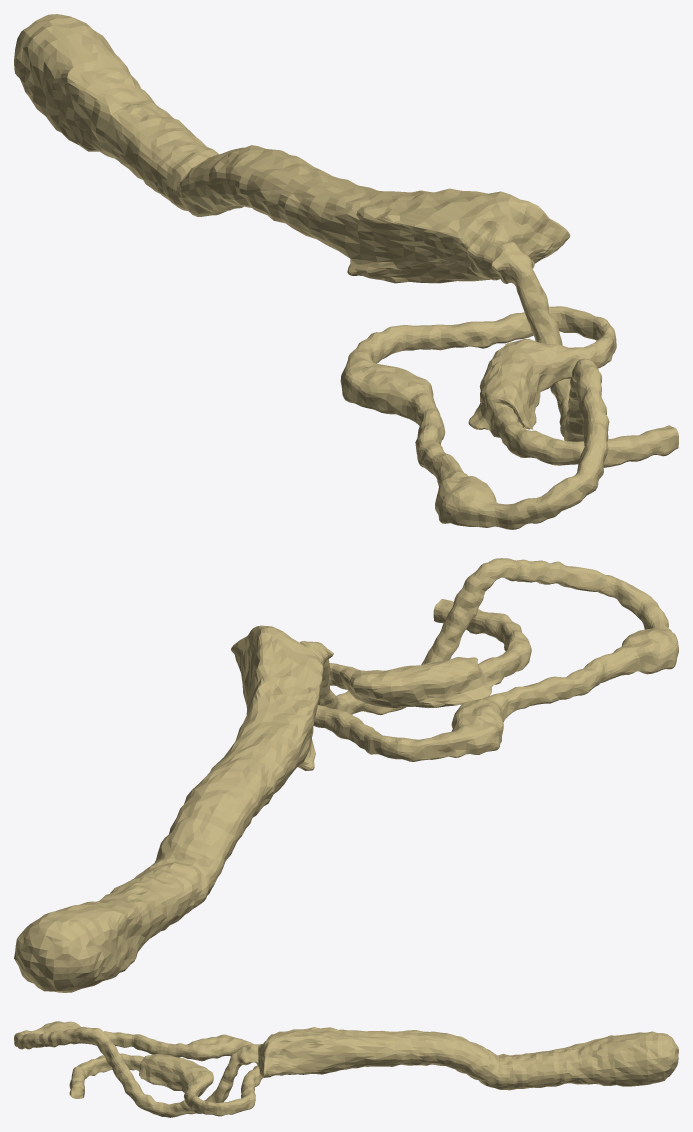
The model's file is Cave.fbx.
3 views of the same model, one above another, from view 1: azimuth 30°, elevation 25°; view 2: azimuth 150°, elevation 25°; view 3: azimuth 270°, elevation 25° (orthographic). The views are drawn at different scales.
Parts seen in each view (by area): view 1: Cube; view 2: Cube; view 3: Cube.
Part boxes in pixels (box(x1,y1,x2,y2)): Cube: box(14, 14, 678, 529); Cube: box(14, 558, 678, 992); Cube: box(14, 1021, 678, 1117).
Bounding box in the file's own units: 7626 × 3661 × 25218.
